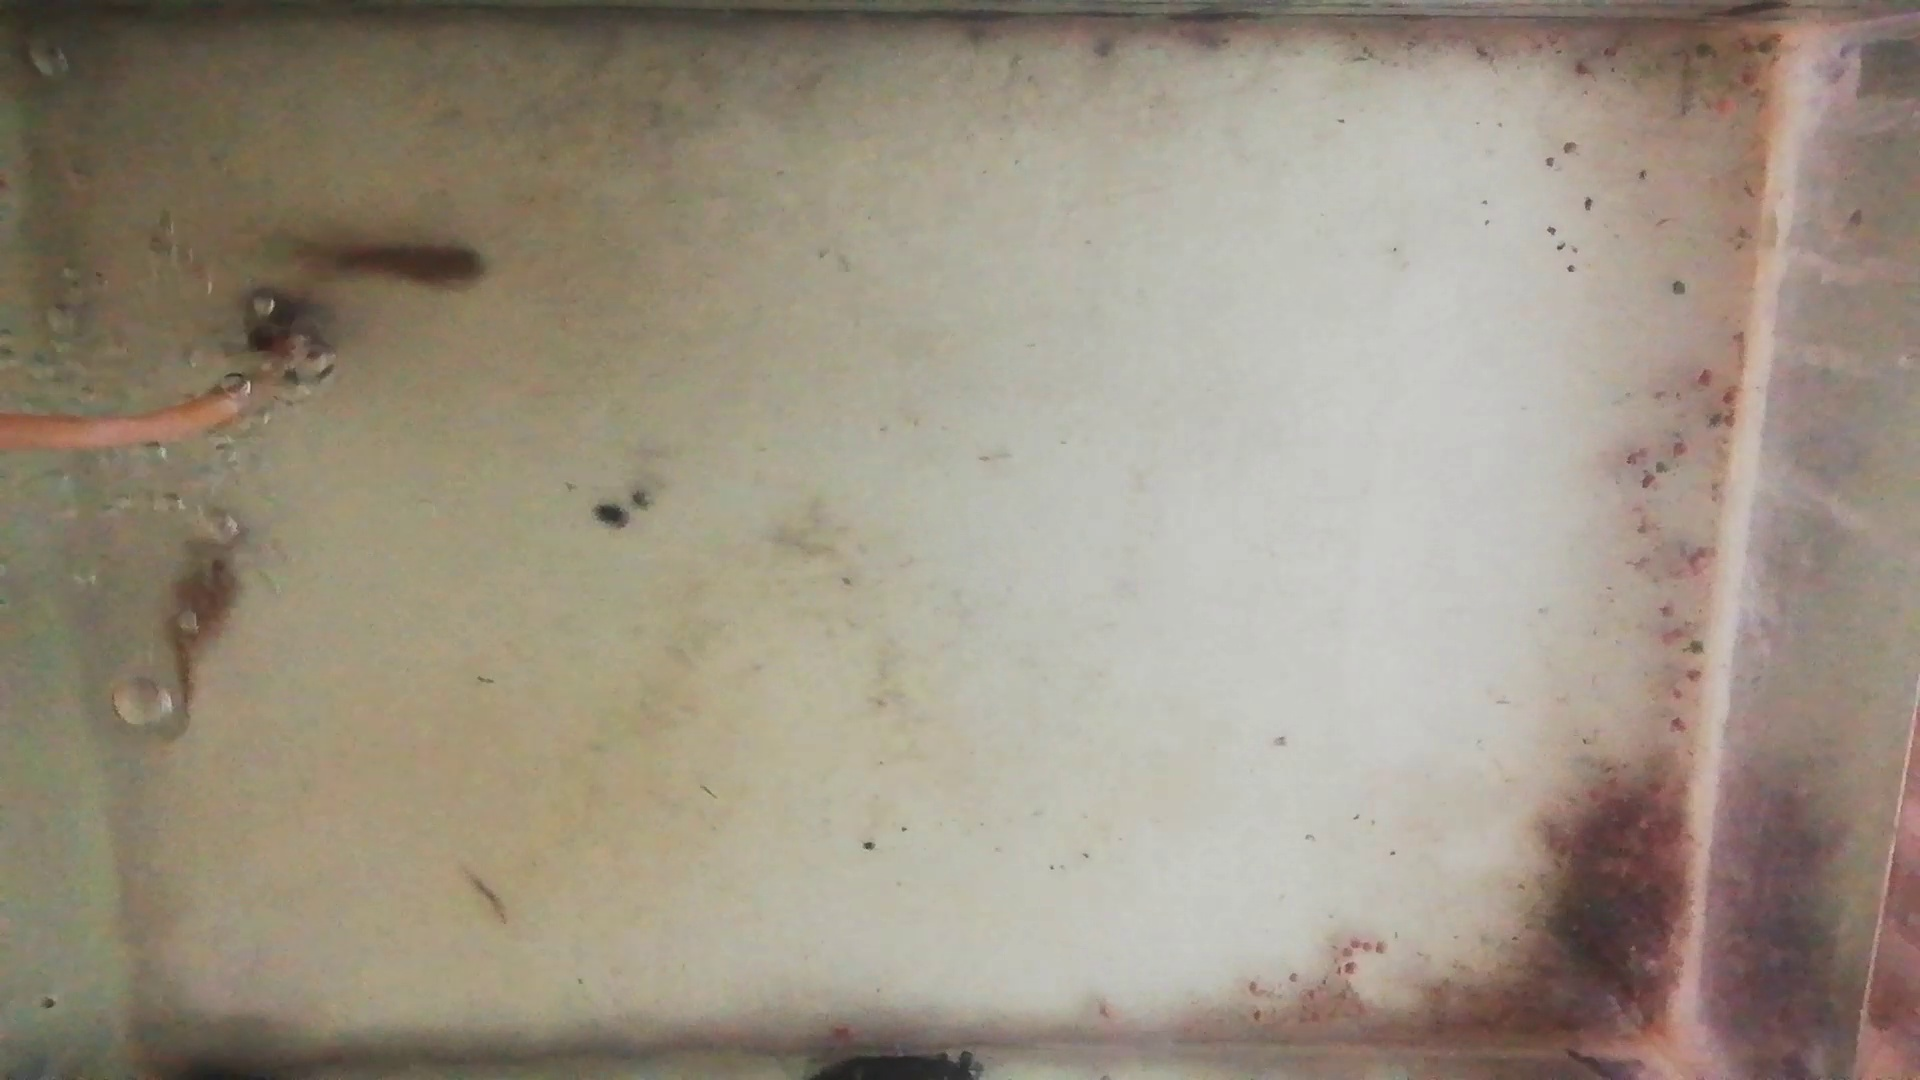fish: (150, 550, 239, 724), (280, 240, 489, 301)
